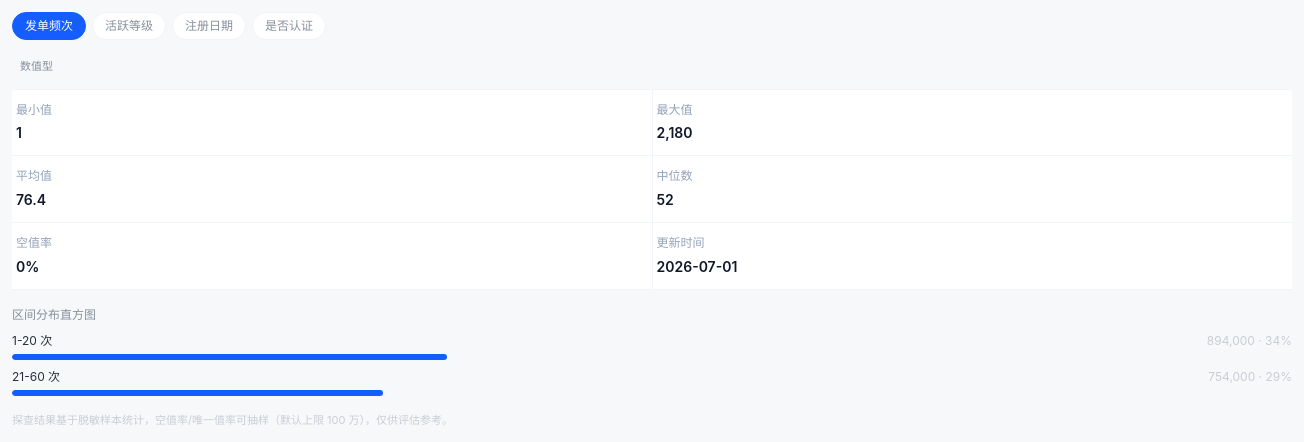
FieldProfilingPanel › switches to a string field and shows uniqueness plus top values
Click the tab "活跃等级" at (129, 26), box top-left (92, 12), bottom-right (166, 40)
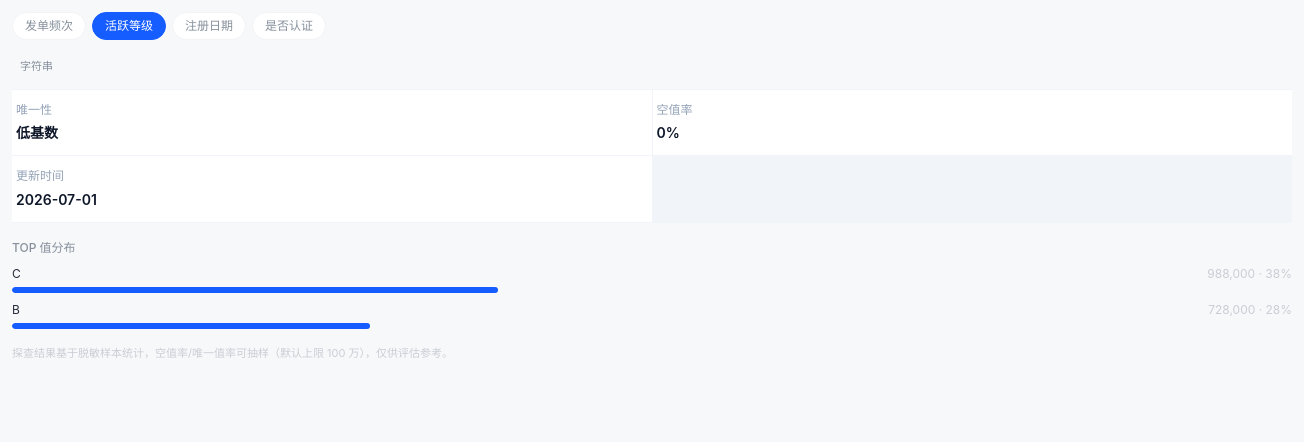
Now the text "字符串" is shown, box top-left (12, 56), bottom-right (61, 76)
Now the text "唯一性" is shown, box top-left (16, 102), bottom-right (52, 116)
Now the text "TOP 值分布" is shown, box top-left (12, 240), bottom-right (76, 255)
